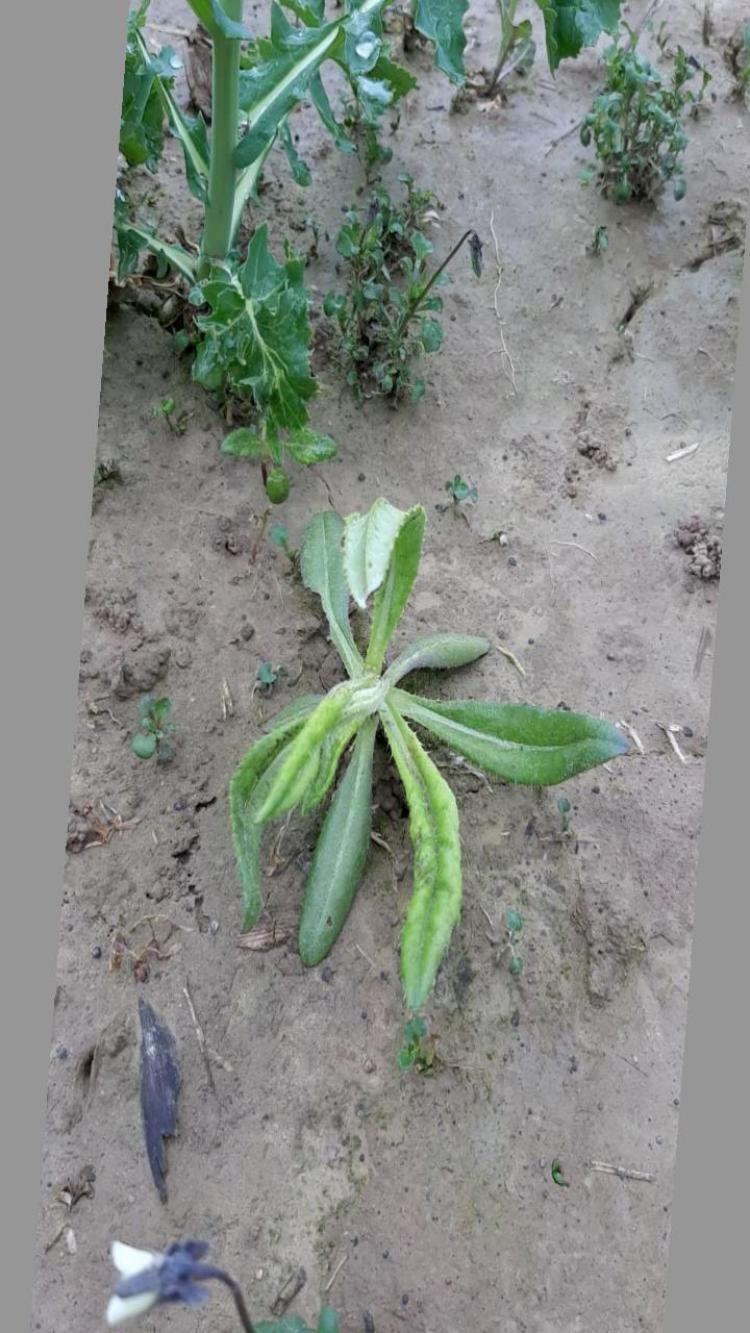osot: (221, 498, 640, 1010)
